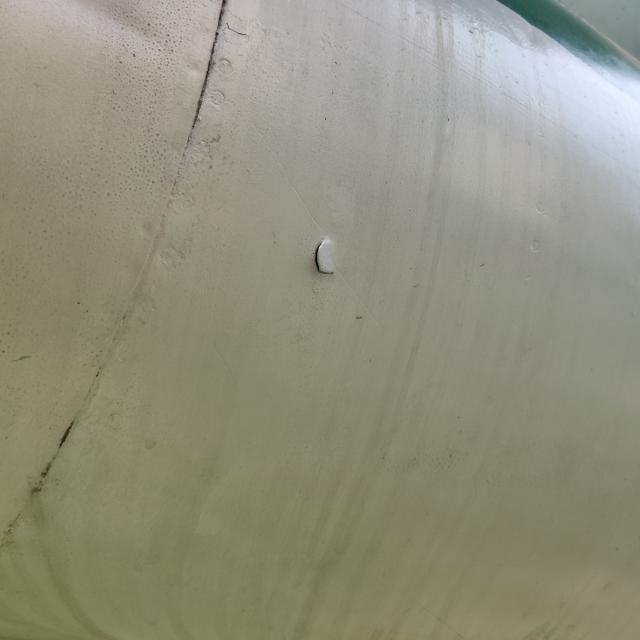crack: (303, 228, 350, 286)
